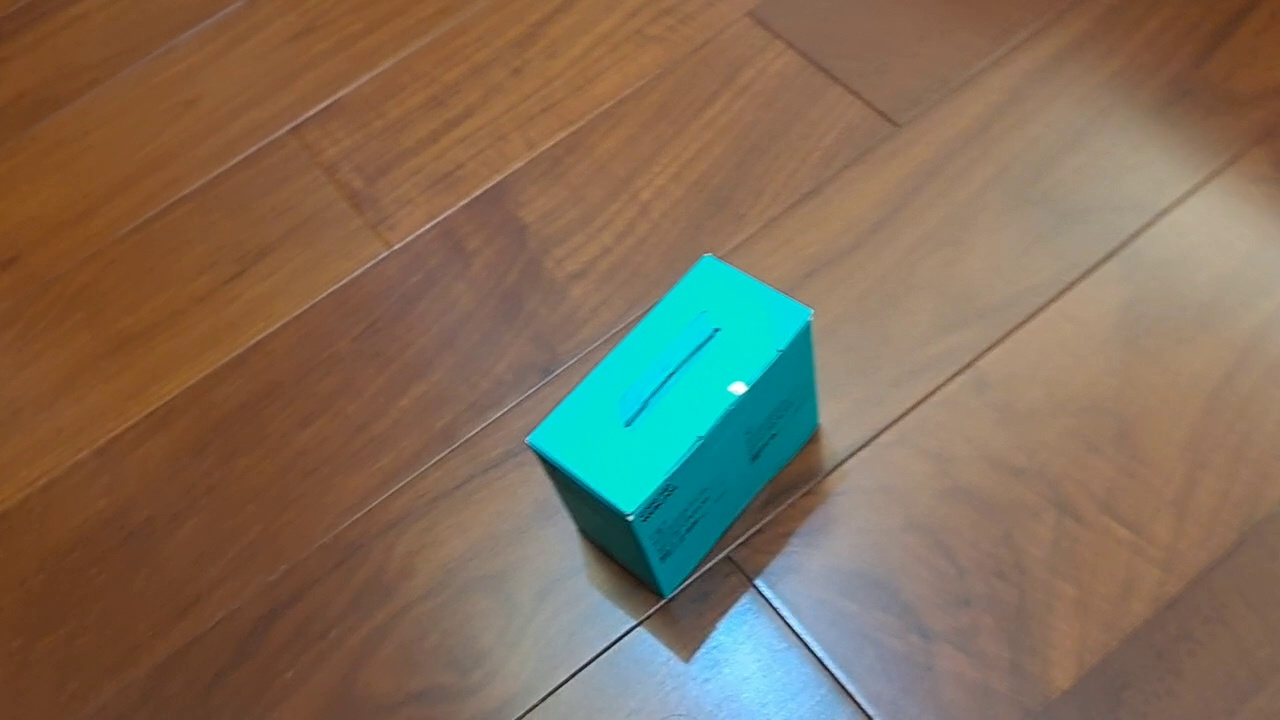webcam: (521, 251, 823, 601)
